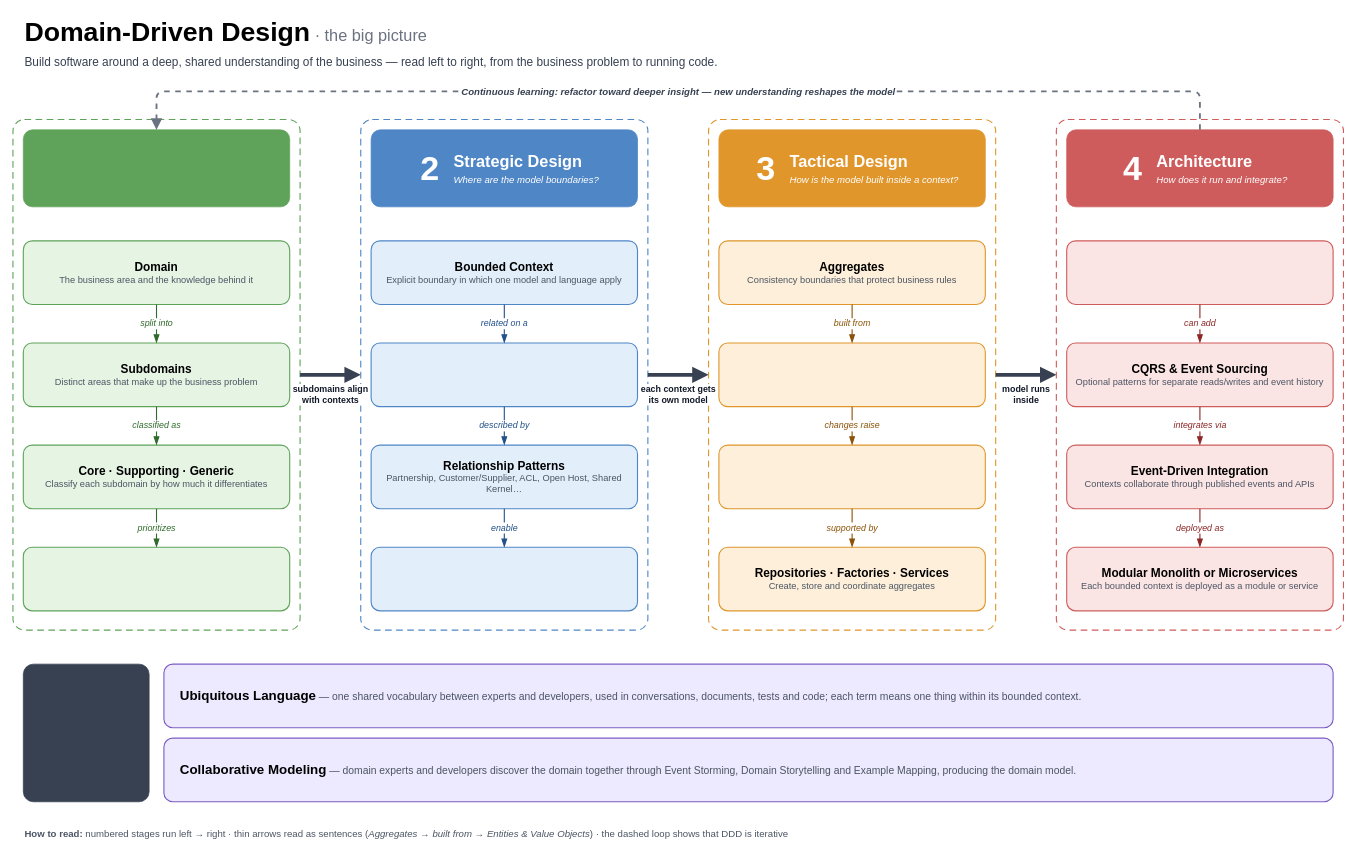
The diagram is 1357 pixels wide and 857 high, and some of its shapes have lost their labels. The centre of each missing label's shape, as x and y in pixels:
"1 Problem Space What problem is the business solving?" goes at point (156, 168).
"Autonomous Teams One team owns each context (Conway's Law)" goes at point (504, 578).
"Context Map Shows all contexts and how they relate" goes at point (504, 374).
"Domain Events Meaningful things that happened in the domain" goes at point (852, 476).
"Entities & Value Objects Things with identity, and immutable descriptive values" goes at point (852, 374).
"Focus on the Core Domain Invest the best effort where the business competes" goes at point (156, 578).
"FOUNDATIONS underpin every stage" goes at point (86, 732).
"Hexagonal / Clean Domain at the center, free of infrastructure" goes at point (1199, 272).
